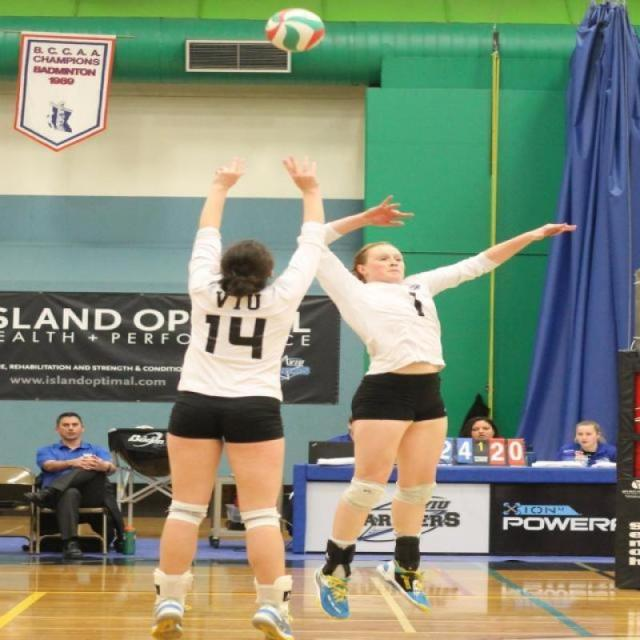volleyball: (263, 8, 326, 48)
